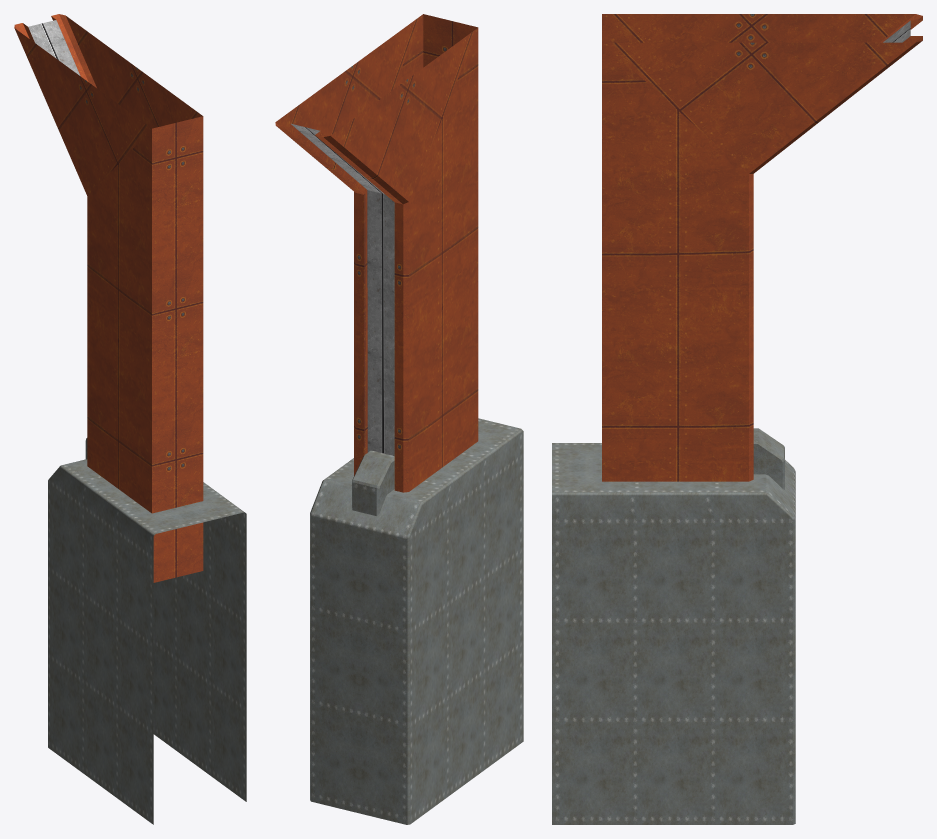
Rendered from Ob_StationSupport_RC.fbx.
3 views of the same model, side by side, from view 1: azimuth 30°, elevation 25°; view 2: azimuth 150°, elevation 25°; view 3: azimuth 270°, elevation 25° (orthographic). The views are drawn at different scales.
Parts seen in each view (by area): view 1: Ob_StationSupport_RC; view 2: Ob_StationSupport_RC; view 3: Ob_StationSupport_RC.
Boxes of the visible parts, left/top/right/bottom form: Ob_StationSupport_RC: left=14, top=14, right=246, bottom=824; Ob_StationSupport_RC: left=275, top=14, right=523, bottom=824; Ob_StationSupport_RC: left=552, top=14, right=922, bottom=824.
Bounding box in the file's own units: 903 × 6266 × 2735.
